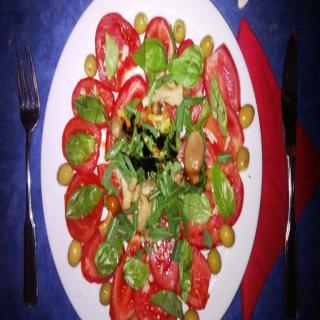tomato: (179, 183, 229, 260), (96, 13, 142, 88), (108, 239, 146, 319), (210, 152, 249, 228), (198, 44, 240, 114), (81, 222, 126, 282), (176, 39, 206, 127), (68, 174, 102, 246), (177, 235, 210, 308), (150, 233, 186, 298), (58, 117, 100, 171), (142, 13, 172, 88), (210, 106, 249, 161), (73, 81, 115, 130), (132, 270, 171, 320)
